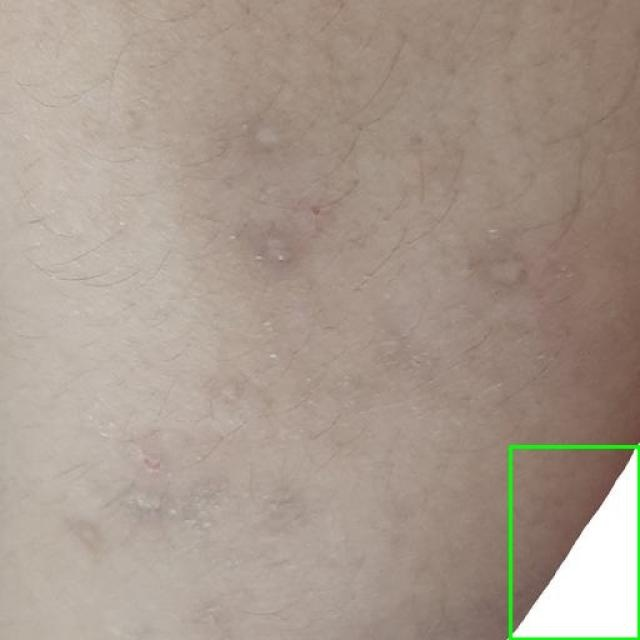Scabies: (510, 446, 639, 639)
